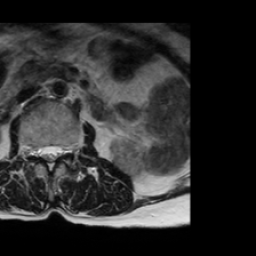CCS_normal: (46, 138, 54, 175)
LFS_stenosis: (63, 134, 71, 161)
LLS_normal: (54, 137, 63, 166)
RFS_normal: (30, 137, 38, 164)
RLS_normal: (38, 138, 46, 166)
